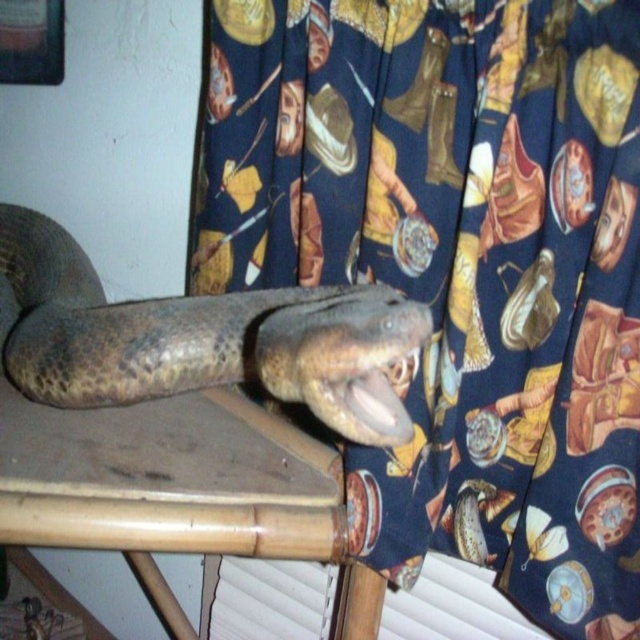Snake: (0, 202, 428, 447)
